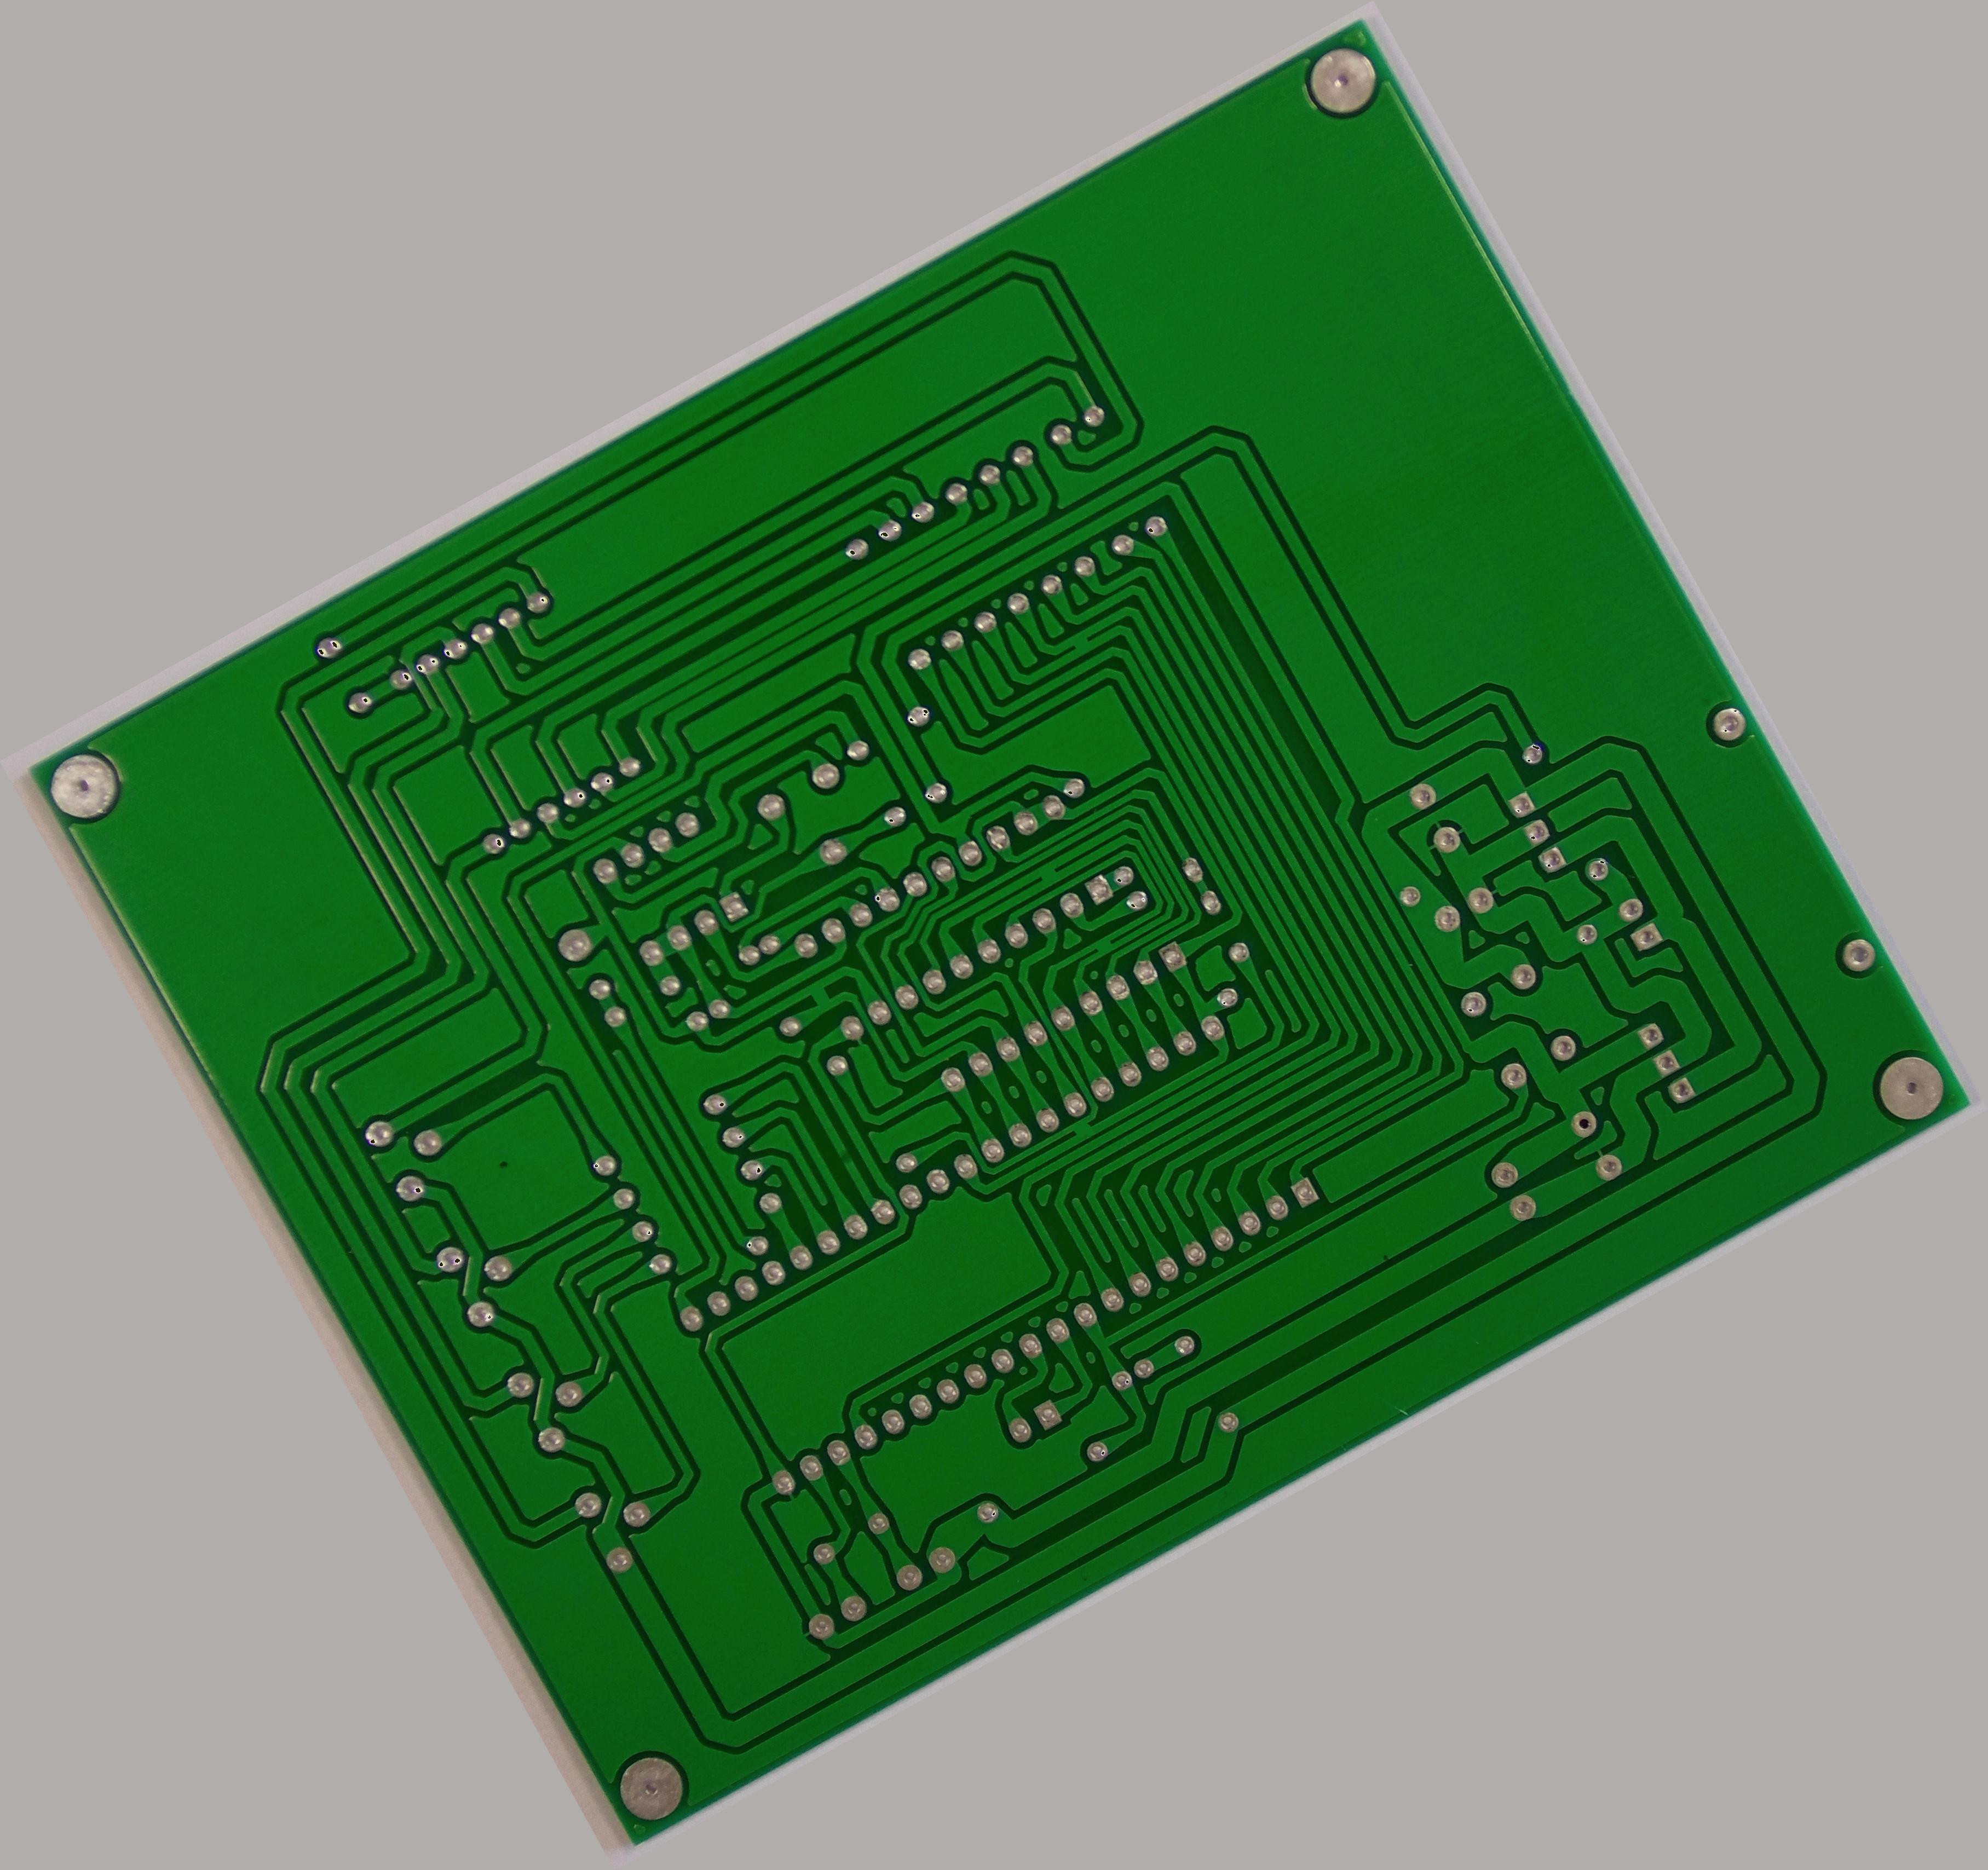short: (794, 968, 845, 1021), (1056, 620, 1104, 664), (1079, 924, 1127, 968), (1062, 1105, 1104, 1148), (1025, 854, 1069, 895)
